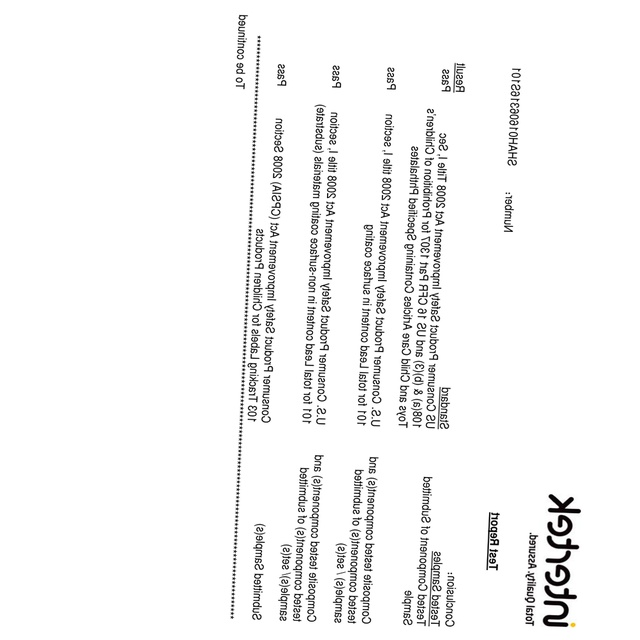intertek: (539, 482, 582, 635)
